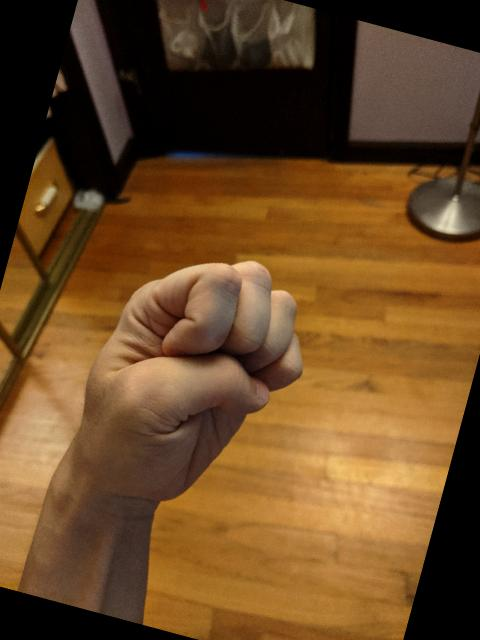E: (52, 223, 334, 542)
